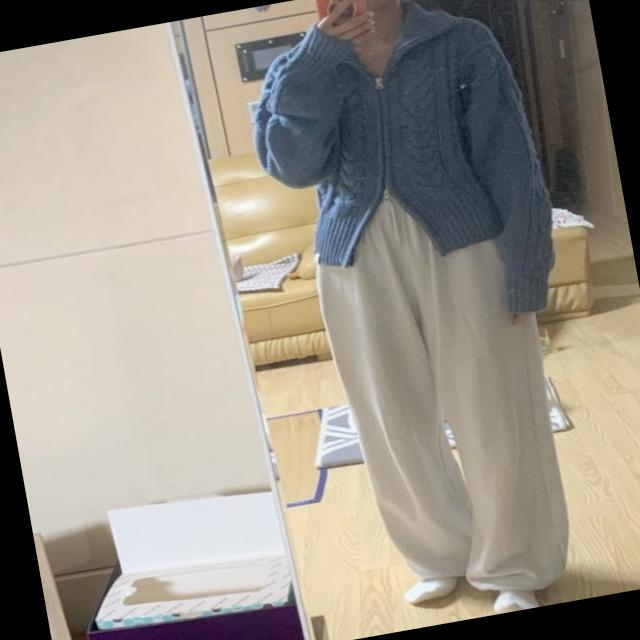cardigan: (237, 0, 568, 357)
trainingpants: (300, 161, 588, 619)
